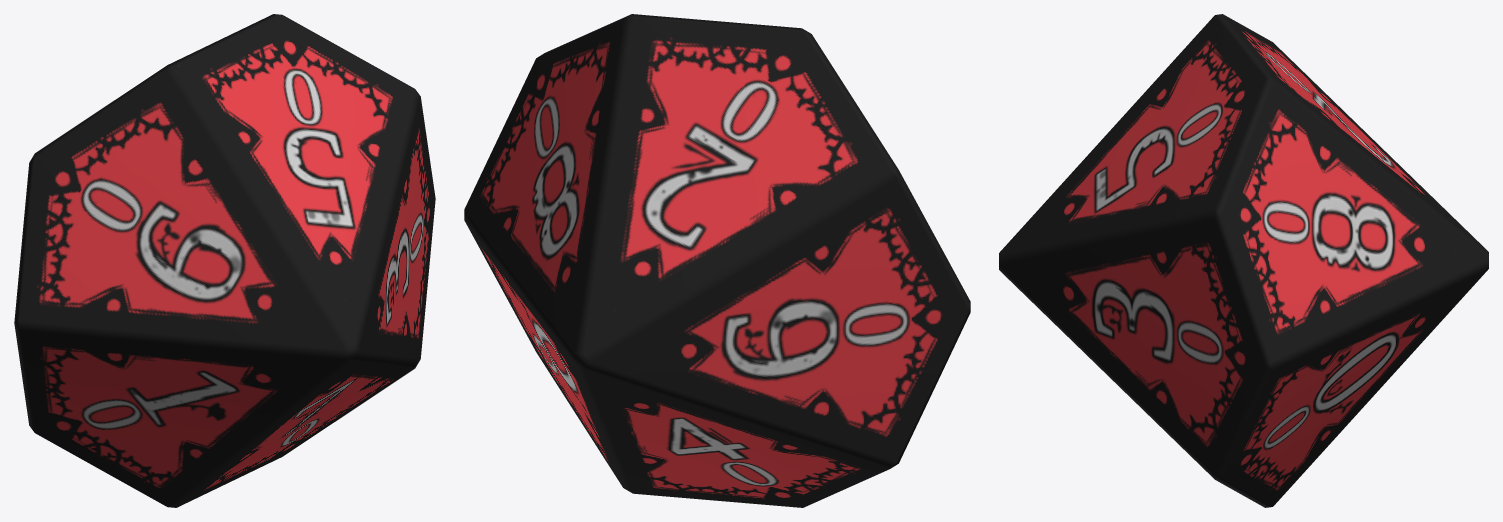
Rendered from d100-carrion.glb.
3 views of the same model, side by side, from view 1: azimuth 30°, elevation 25°; view 2: azimuth 150°, elevation 25°; view 3: azimuth 270°, elevation 25° (orthographic). The views are drawn at different scales.
Visible parts, largest first — view 1: Mesh_0; view 2: Mesh_0; view 3: Mesh_0.
Boxes of the visible parts, x1=… form: Mesh_0: x1=14, y1=14, x2=435, y2=507; Mesh_0: x1=464, y1=14, x2=970, y2=507; Mesh_0: x1=999, y1=14, x2=1488, y2=507.
Size of the model in its own units: 175 by 166 by 172.
1 material, 1 textured.
